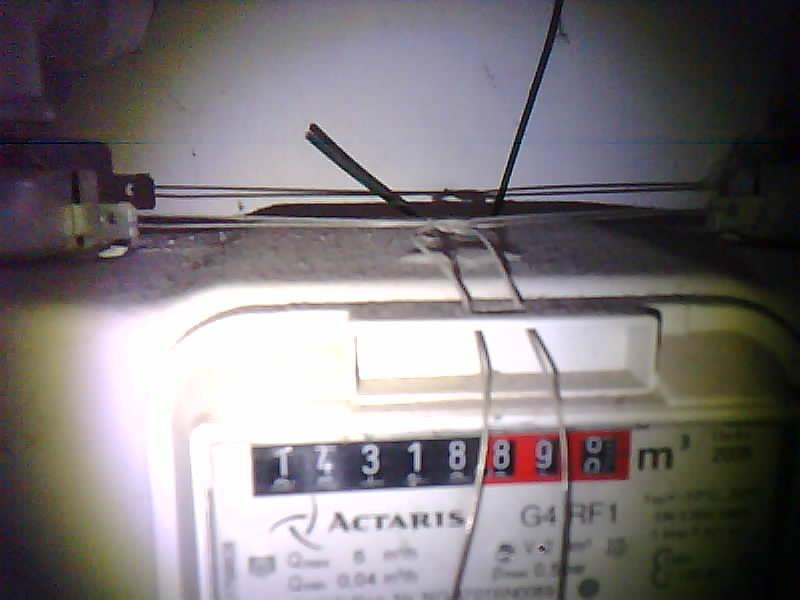nums: (249, 429, 631, 496)
